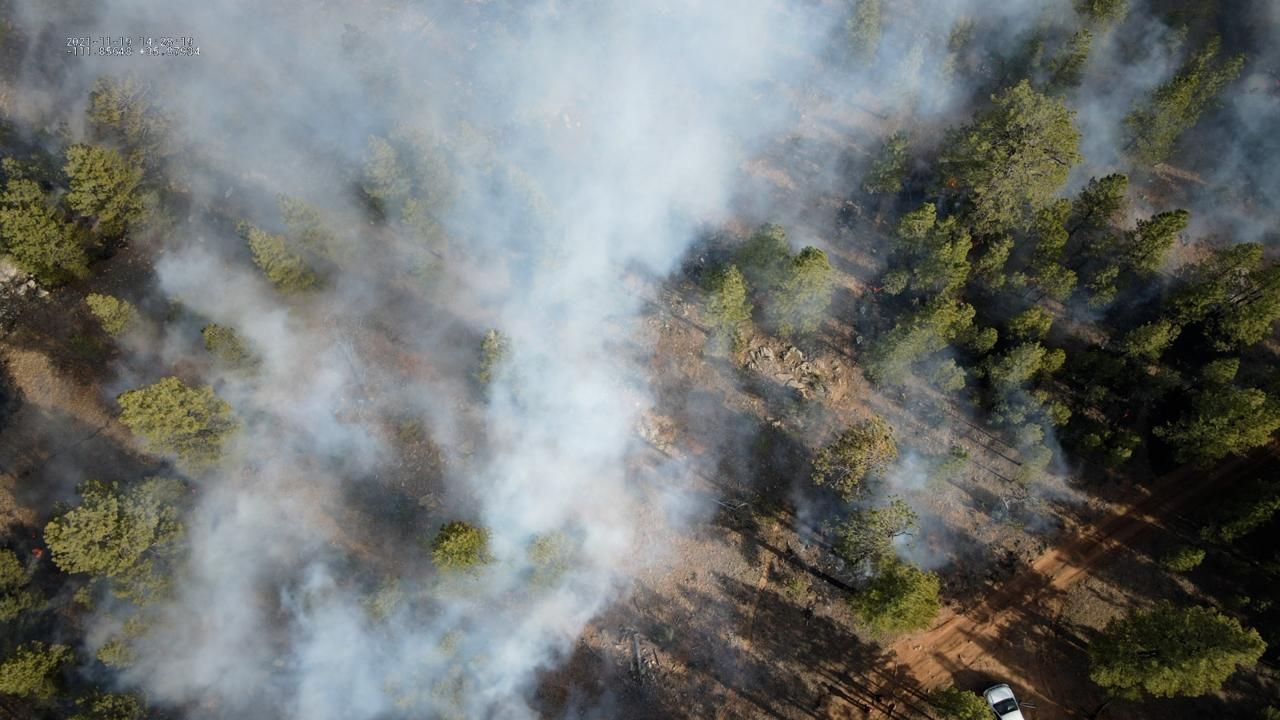fire: (30, 548, 44, 559), (871, 286, 882, 294), (949, 181, 957, 188)
smoke: (0, 0, 1280, 720)
